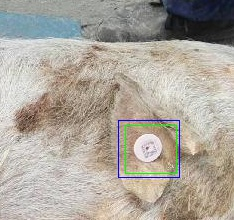text: (125, 125, 176, 173)
